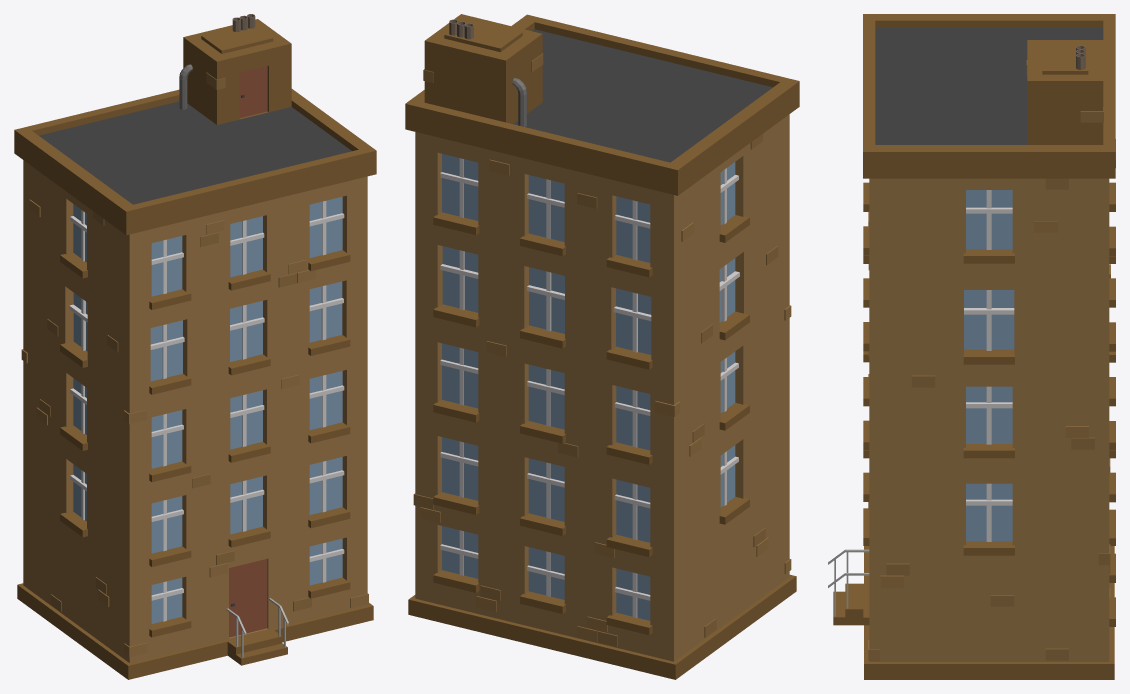
Rendered from Multistory_02.glb.
The picture shows the model from 3 angles, left to right: view 1: azimuth 30°, elevation 25°; view 2: azimuth 150°, elevation 25°; view 3: azimuth 270°, elevation 25°; orthographic projection. The views are drawn at different scales.
Visible parts, largest first — view 1: House_02; view 2: House_02; view 3: House_02.
Boxes of the visible parts, left/top/right/bottom form: House_02: left=14, top=14, right=376, bottom=679; House_02: left=405, top=14, right=799, bottom=679; House_02: left=828, top=14, right=1115, bottom=679.
Bounding box in the file's own units: 7.14 × 14.74 × 6.3.
1 material, 1 textured.
